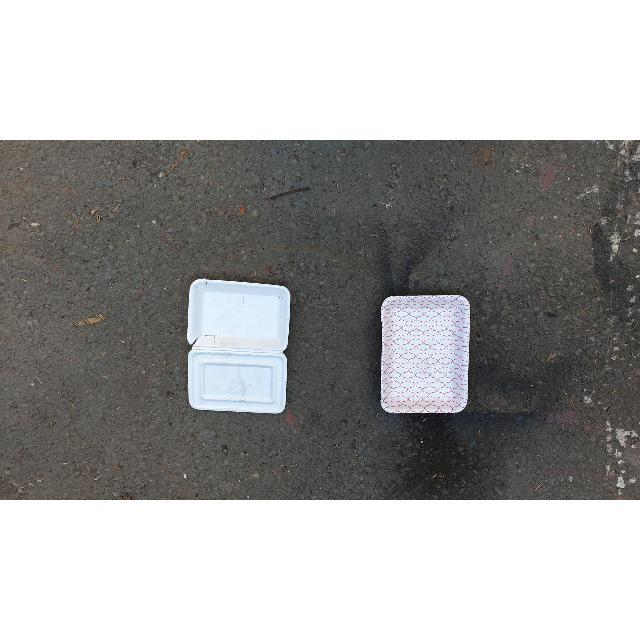Plastico descartable: (188, 280, 291, 414), (381, 295, 469, 416)
